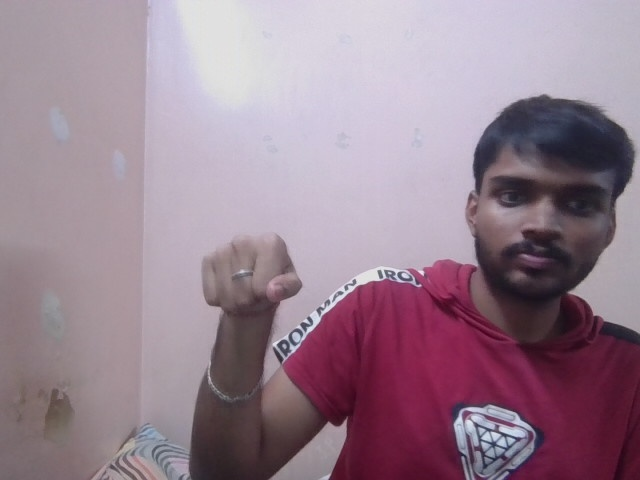Yes: (190, 229, 302, 317)
